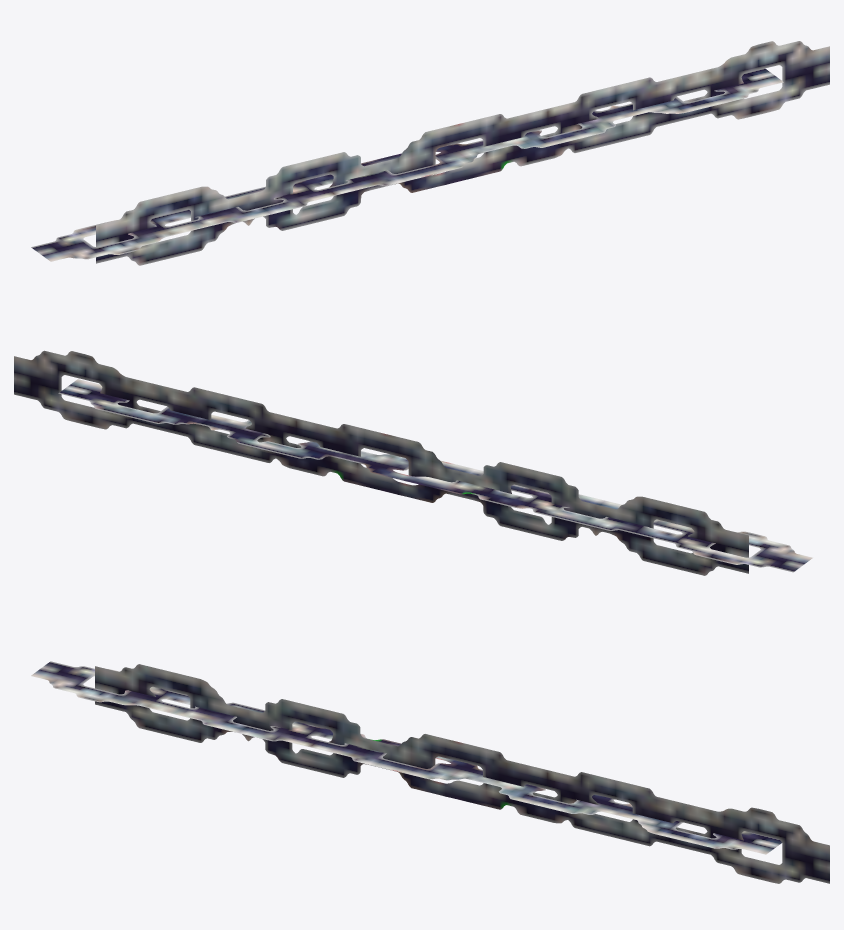
File: chain.fbx
3 renders of one model, top to bottom at view 1: azimuth 30°, elevation 25°; view 2: azimuth 150°, elevation 25°; view 3: azimuth 330°, elevation 25°, orthographic.
Visible parts, largest first — view 1: chain; view 2: chain; view 3: chain.
Boxes of the visible parts, x1,y1,x2,y2 form: chain: [31, 41, 829, 265]; chain: [14, 350, 812, 575]; chain: [31, 661, 829, 883].
Bounding box in the file's own units: 304 × 37.78 × 35.74.
1 material, 1 textured.
